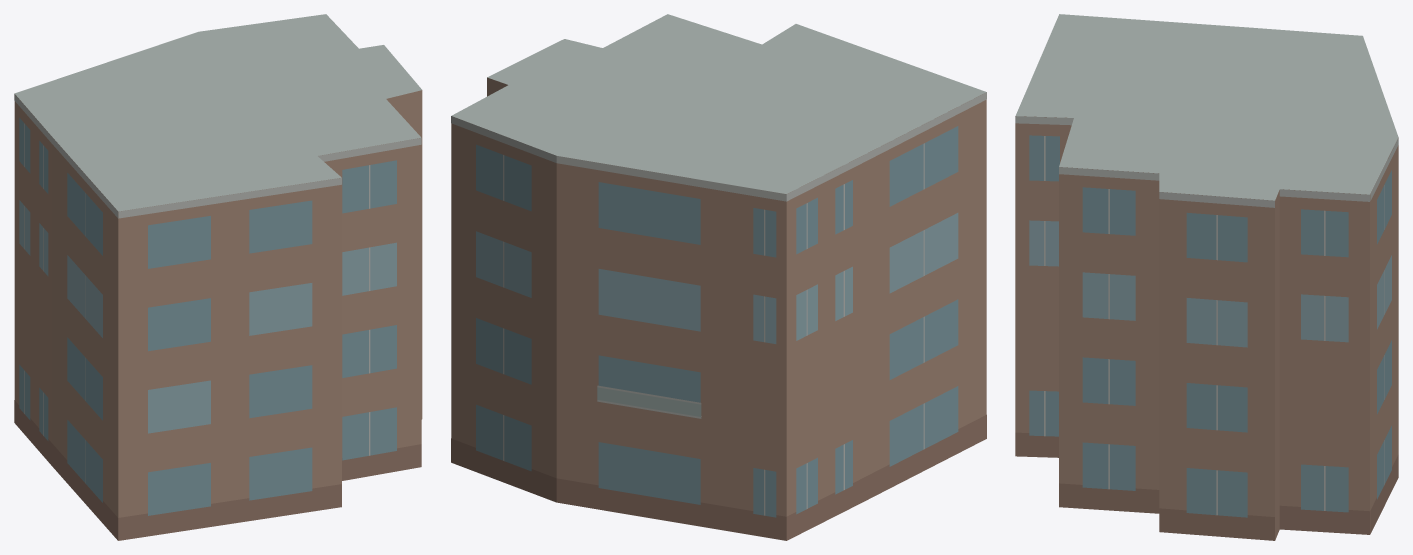
The model's file is survey-upis-32486908.glb.
3 views of the same model, side by side, from view 1: azimuth 30°, elevation 25°; view 2: azimuth 150°, elevation 25°; view 3: azimuth 270°, elevation 25° (orthographic). The views are drawn at different scales.
Visible parts, largest first — view 1: survey-upis-32486908.tmp; view 2: survey-upis-32486908.tmp; view 3: survey-upis-32486908.tmp.
Part boxes in pixels (bbox=[...]): survey-upis-32486908.tmp: bbox=[14, 14, 422, 540]; survey-upis-32486908.tmp: bbox=[451, 14, 986, 540]; survey-upis-32486908.tmp: bbox=[1015, 14, 1398, 540].
Bounding box in the file's own units: 13.42 × 11.4 × 11.65.
